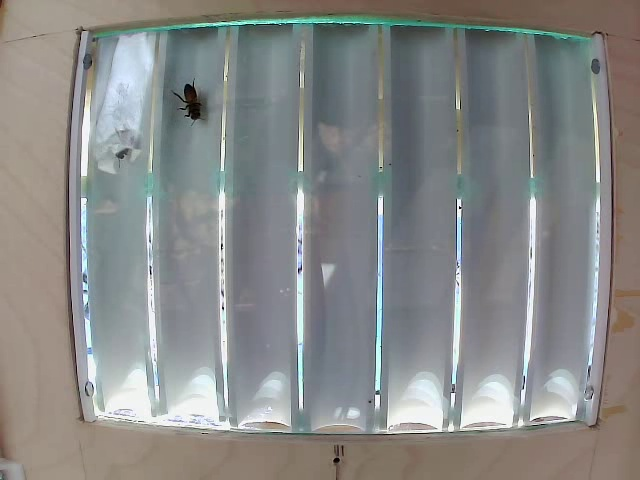bee: (170, 79, 216, 129)
